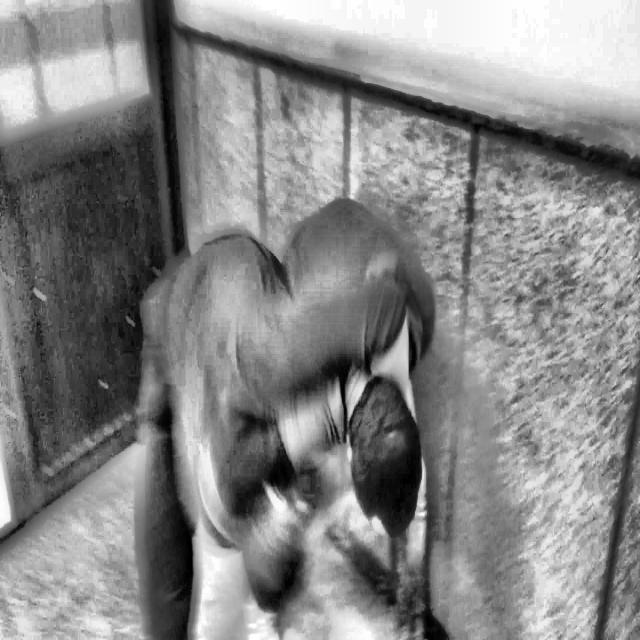robbery: (127, 173, 443, 639)
